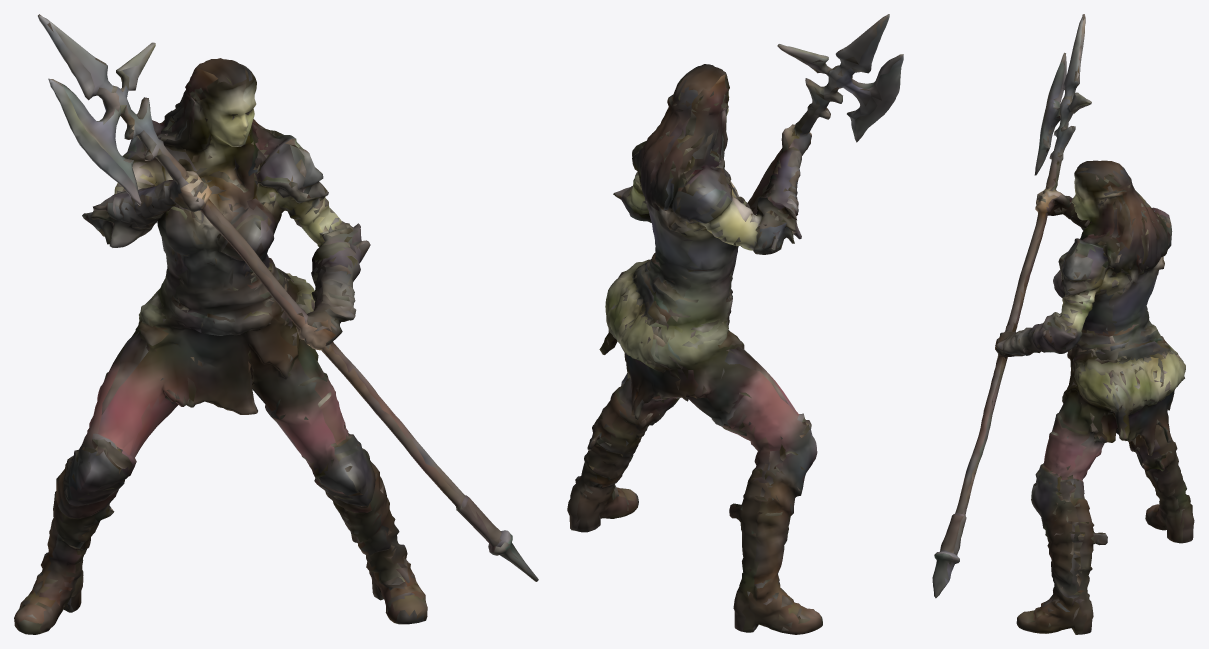
The model's file is Mabel_final.glb.
The picture shows the model from 3 angles, left to right: view 1: azimuth 30°, elevation 25°; view 2: azimuth 150°, elevation 25°; view 3: azimuth 270°, elevation 25°; orthographic projection. The views are drawn at different scales.
Visible parts, largest first — view 1: Mesh_0; view 2: Mesh_0; view 3: Mesh_0.
Boxes of the visible parts, x1=… form: Mesh_0: x1=14, y1=14, x2=538, y2=634; Mesh_0: x1=567, y1=14, x2=903, y2=634; Mesh_0: x1=932, y1=14, x2=1194, y2=634.
Bounding box in the file's own units: 1.28 × 2 × 0.966.
Materials: 1 (1 with a texture image).
